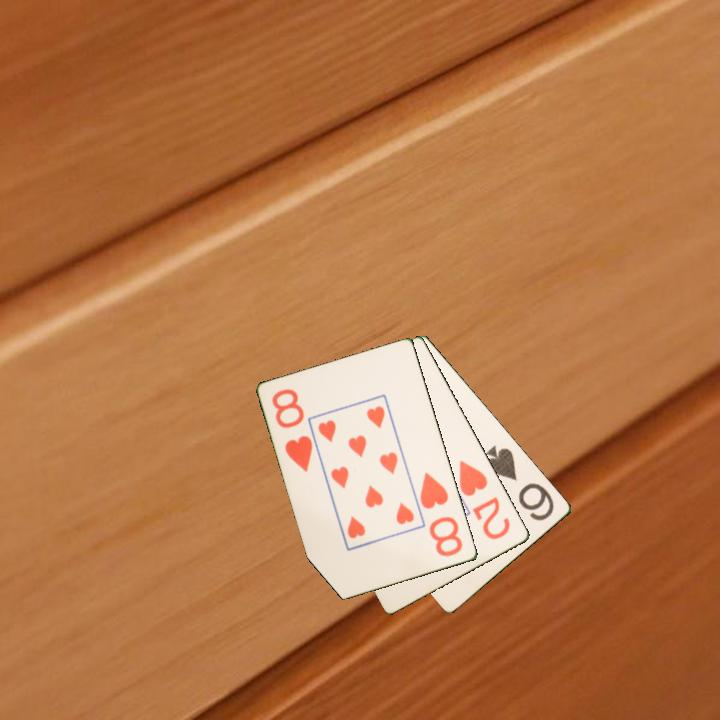2h: (456, 457, 513, 543)
6s: (482, 442, 557, 524)
8h: (417, 469, 466, 560), (268, 385, 316, 475)
